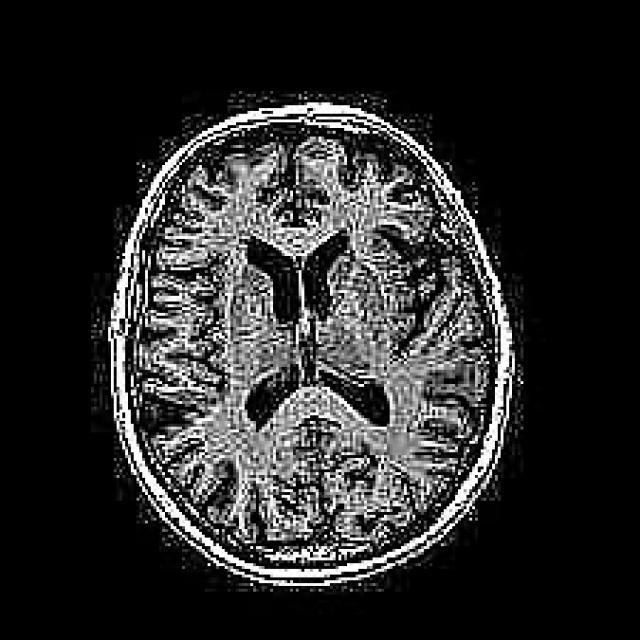notumor: (108, 102, 518, 589)
